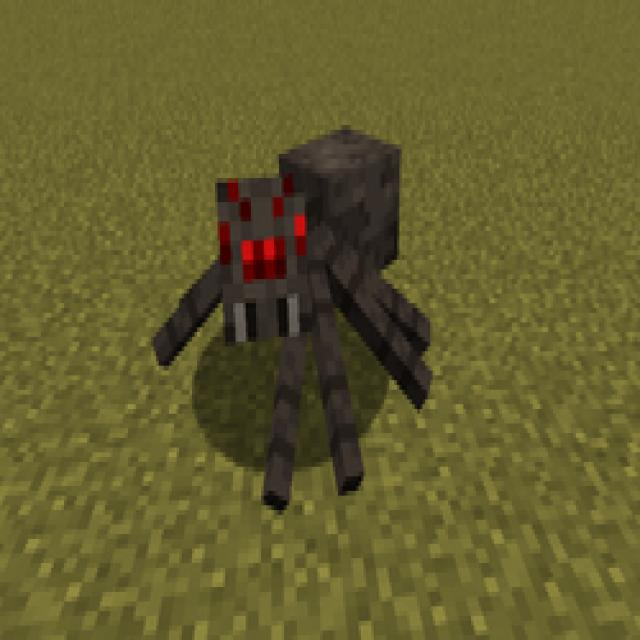Spider: (151, 125, 433, 515)
